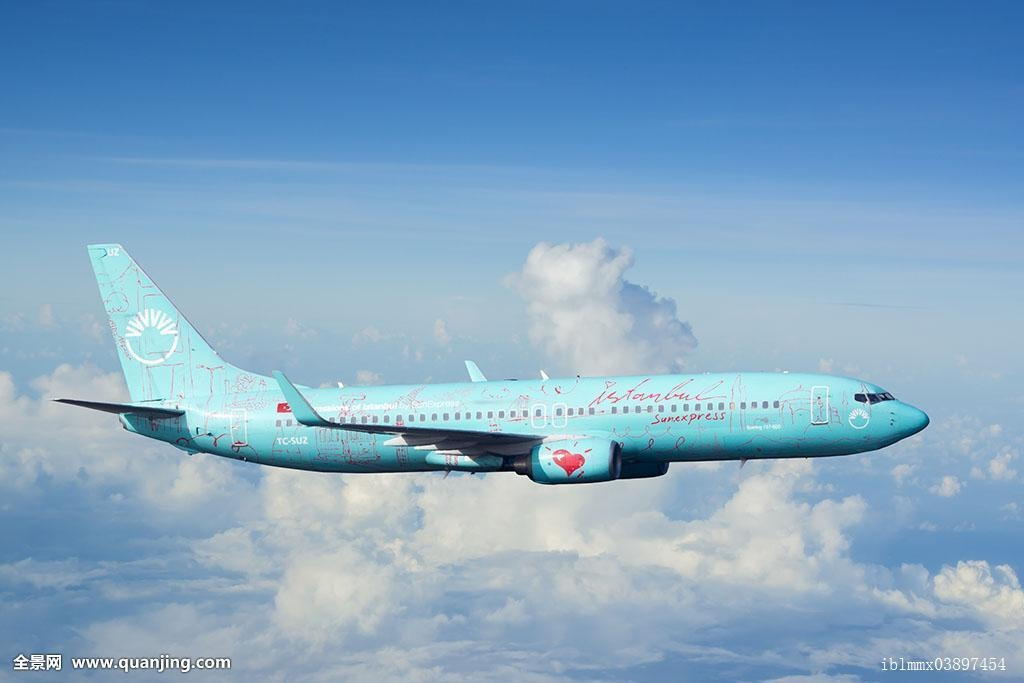airplane: (50, 225, 954, 490)
